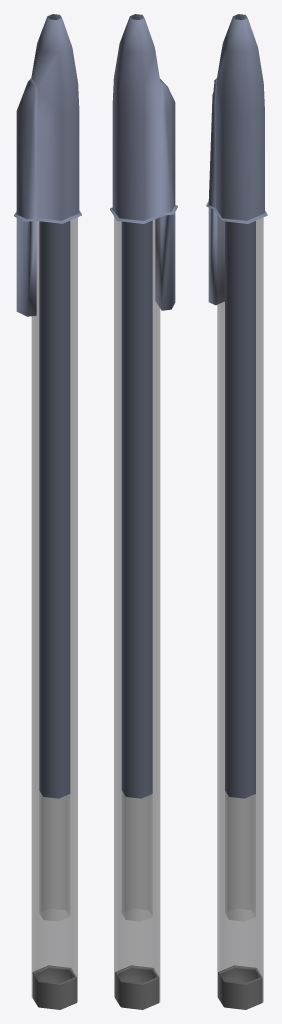
The model's file is Pen_2.fbx.
The picture shows the model from 3 angles, left to right: view 1: azimuth 30°, elevation 25°; view 2: azimuth 210°, elevation 25°; view 3: azimuth 330°, elevation 25°; orthographic projection.
Parts seen in each view (by area): view 1: tap_pen; view 2: tap_pen; view 3: tap_pen.
Part boxes in pixels (x1=…): tap_pen: x1=14, y1=14, x2=81, y2=1009; tap_pen: x1=110, y1=14, x2=177, y2=1009; tap_pen: x1=206, y1=14, x2=267, y2=1009.
Size of the model in its own units: 0.0663 by 1.06 by 0.0521.
